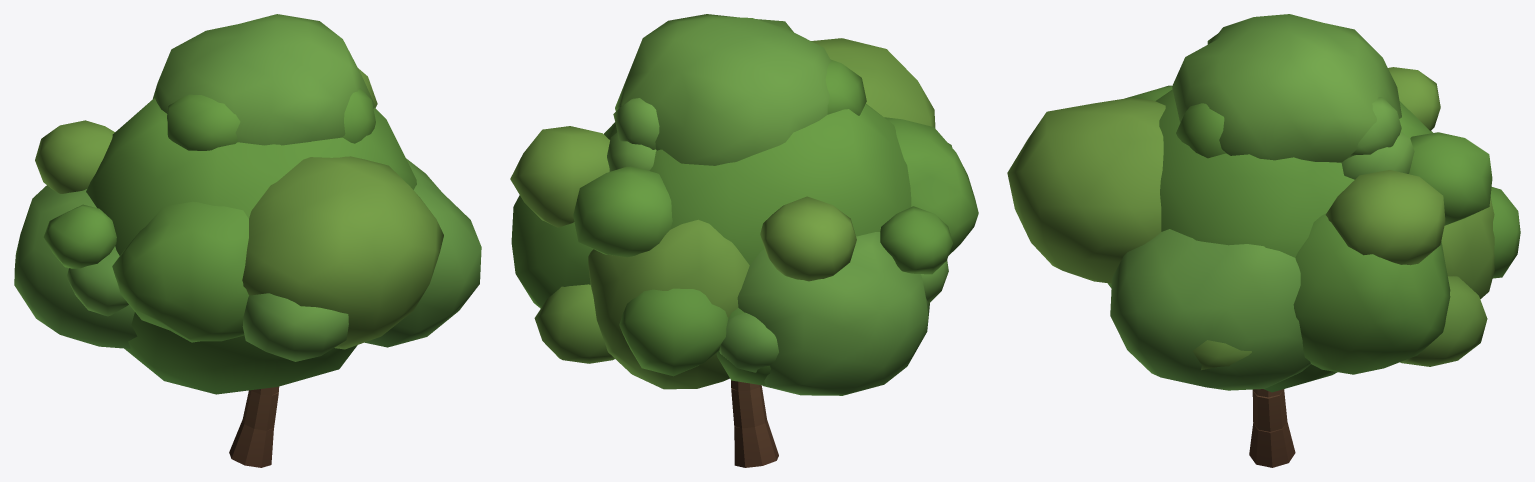
The model's file is oak-2.glb.
3 views of the same model, side by side, from view 1: azimuth 30°, elevation 25°; view 2: azimuth 150°, elevation 25°; view 3: azimuth 270°, elevation 25° (orthographic). The views are drawn at different scales.
Visible parts, largest first — view 1: leaf, bark; view 2: leaf, bark; view 3: leaf, bark.
Boxes of the visible parts, left/top/right/bottom form: leaf: left=14, top=14, right=481, bottom=394; bark: left=229, top=386, right=279, bottom=467; leaf: left=510, top=14, right=978, bottom=395; bark: left=731, top=380, right=778, bottom=467; leaf: left=1007, top=14, right=1520, bottom=392; bark: left=1249, top=389, right=1295, bottom=467.
Size of the model in its own units: 5.93 by 6.32 by 6.63.
